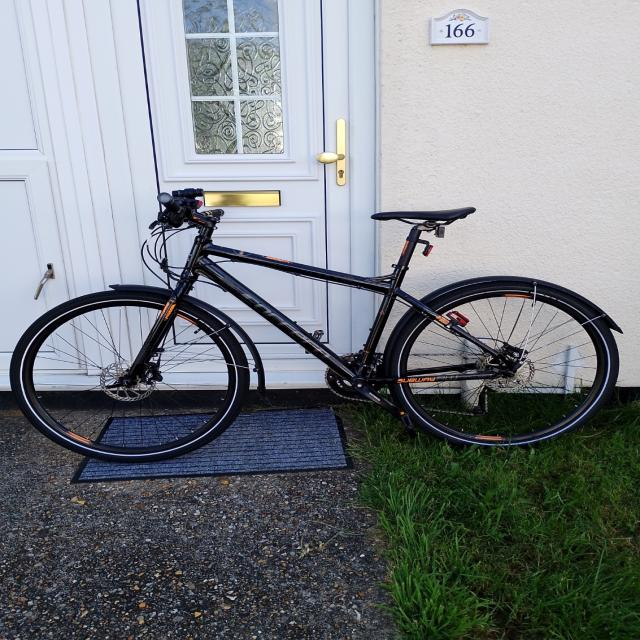bicycle: (9, 187, 623, 462)
